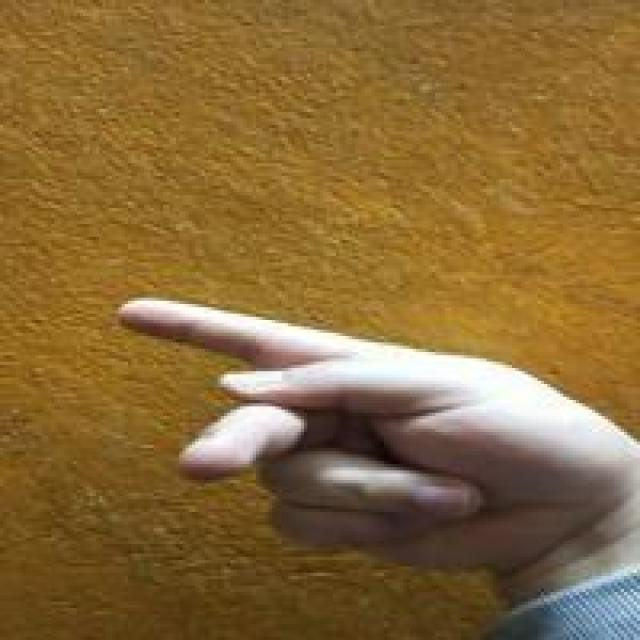K: (104, 282, 603, 588)
